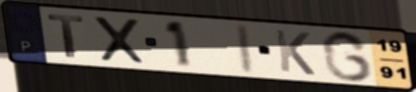1: (163, 20, 194, 69)
G: (319, 29, 375, 83)
I: (237, 22, 258, 76)
K: (272, 28, 318, 78)
T: (45, 13, 87, 60)
X: (90, 14, 149, 66)
